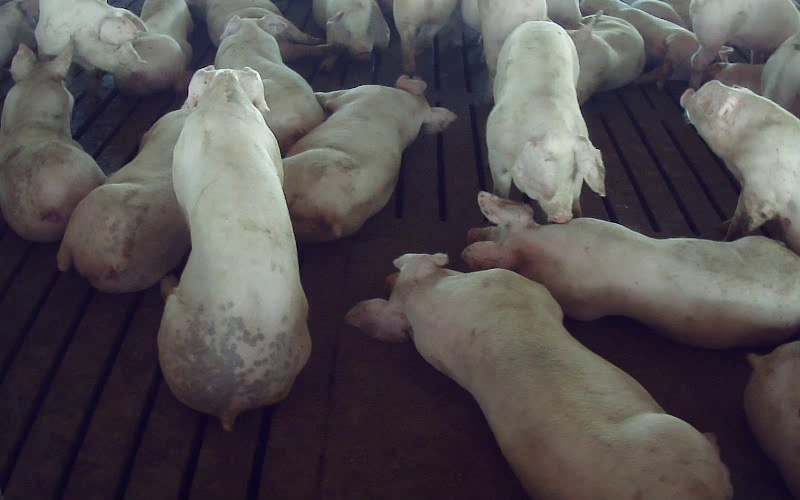pig: (346, 254, 731, 499), (158, 67, 310, 429), (463, 192, 799, 347), (283, 76, 455, 240), (58, 108, 189, 292), (486, 21, 604, 222), (680, 81, 799, 254), (0, 45, 104, 241), (215, 14, 323, 150), (689, 0, 799, 87), (580, 0, 698, 79), (188, 0, 331, 60), (35, 0, 146, 71), (115, 0, 192, 94), (568, 10, 644, 104), (313, 0, 389, 58)
